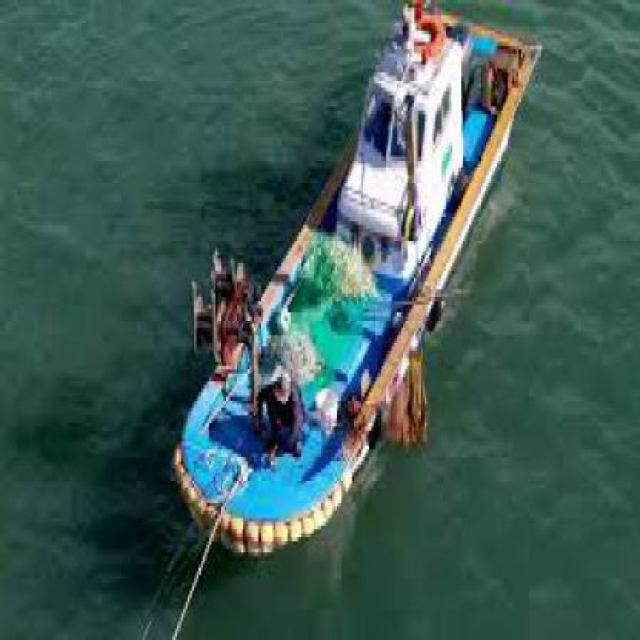fish-b: (158, 1, 556, 566)
